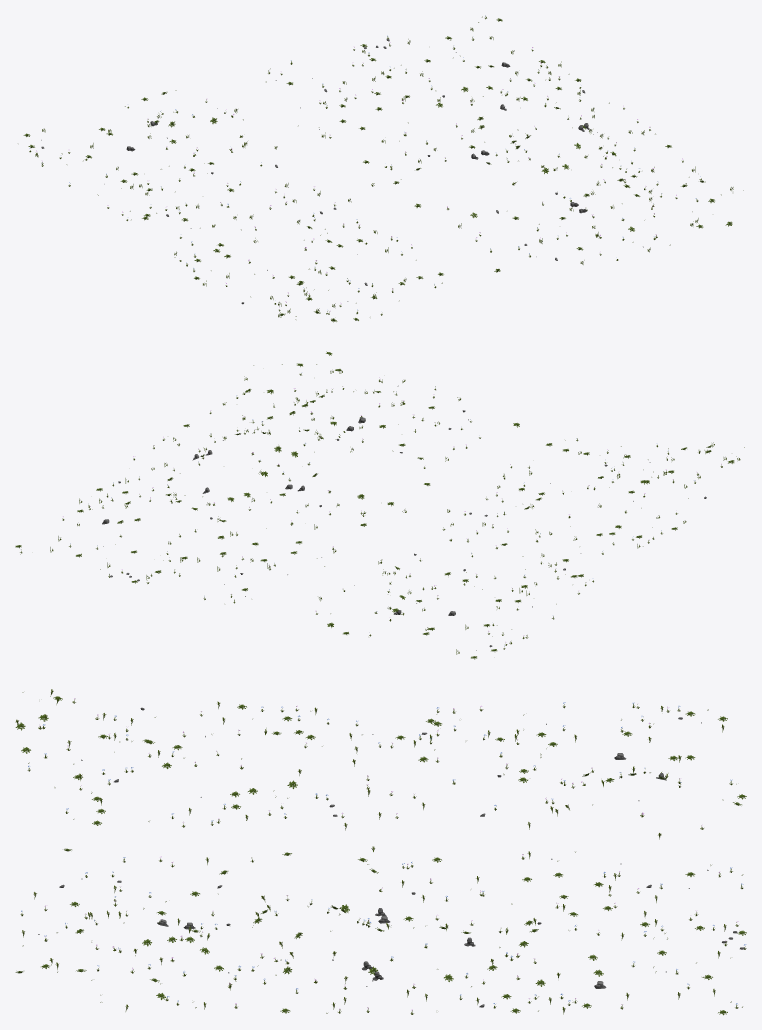
The model's file is vegetation.glb.
3 views of the same model, one above another, from view 1: azimuth 30°, elevation 25°; view 2: azimuth 150°, elevation 25°; view 3: azimuth 270°, elevation 25° (orthographic). The views are drawn at different scales.
Size of what is drawn, in the model's own units: 160 by 9.66 by 159.
Materials: 2 (2 with a texture image).
